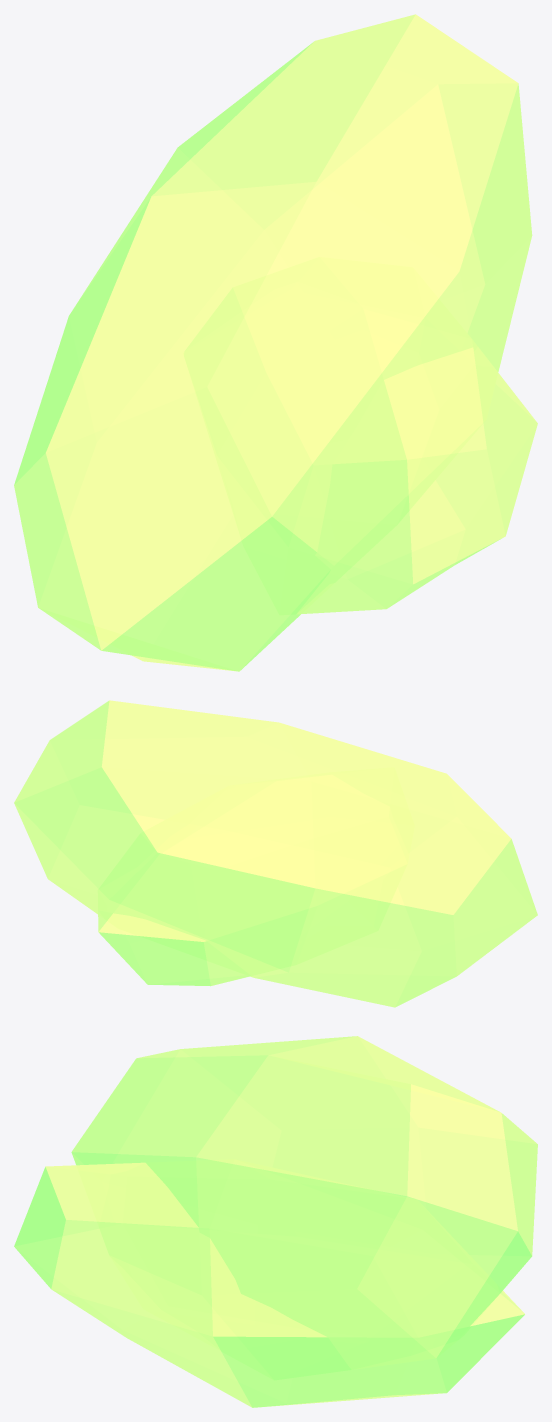
Rendered from enemy6.fbx.
3 views of the same model, one above another, from view 1: azimuth 30°, elevation 25°; view 2: azimuth 150°, elevation 25°; view 3: azimuth 270°, elevation 25° (orthographic). The views are drawn at different scales.
Visible parts, largest first — view 1: Enemy-6; view 2: Enemy-6; view 3: Enemy-6.
Part boxes in pixels (bbox=[...]): Enemy-6: bbox=[14, 14, 537, 671]; Enemy-6: bbox=[14, 700, 537, 1007]; Enemy-6: bbox=[14, 1036, 537, 1407].
Size of the model in its own units: 234 by 176 by 216.
